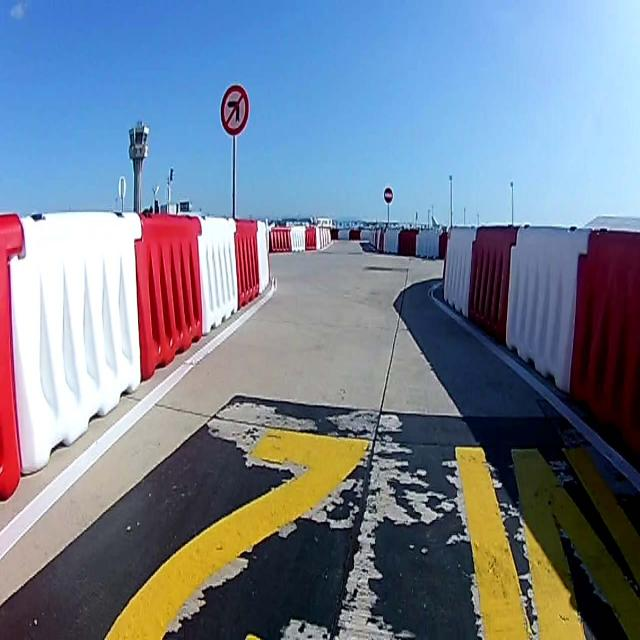soladonulmez: (222, 85, 249, 135)
